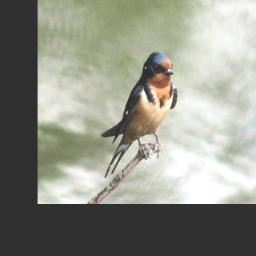Swallow: (104, 50, 180, 179)
